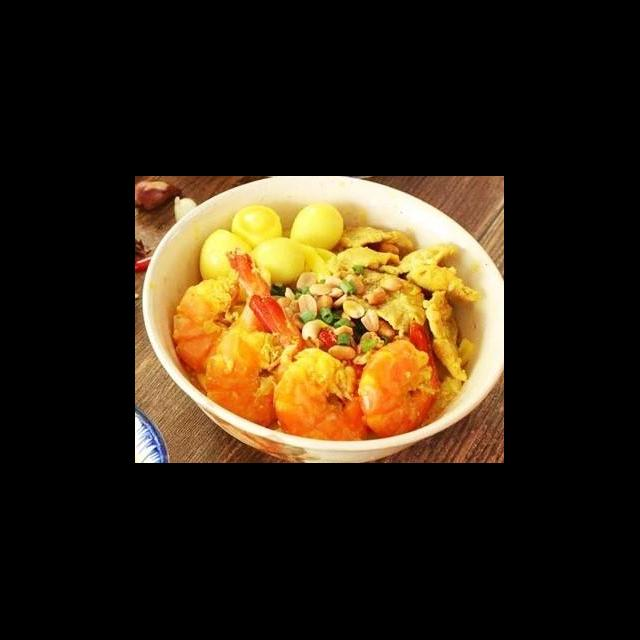ca: (378, 240, 483, 306), (351, 266, 428, 334), (422, 286, 472, 384), (328, 224, 418, 276)
tom: (202, 292, 310, 432), (270, 324, 378, 446), (170, 248, 274, 374), (354, 316, 444, 439)
trung: (196, 226, 258, 288), (245, 236, 312, 288), (288, 200, 346, 254), (228, 203, 286, 250)
